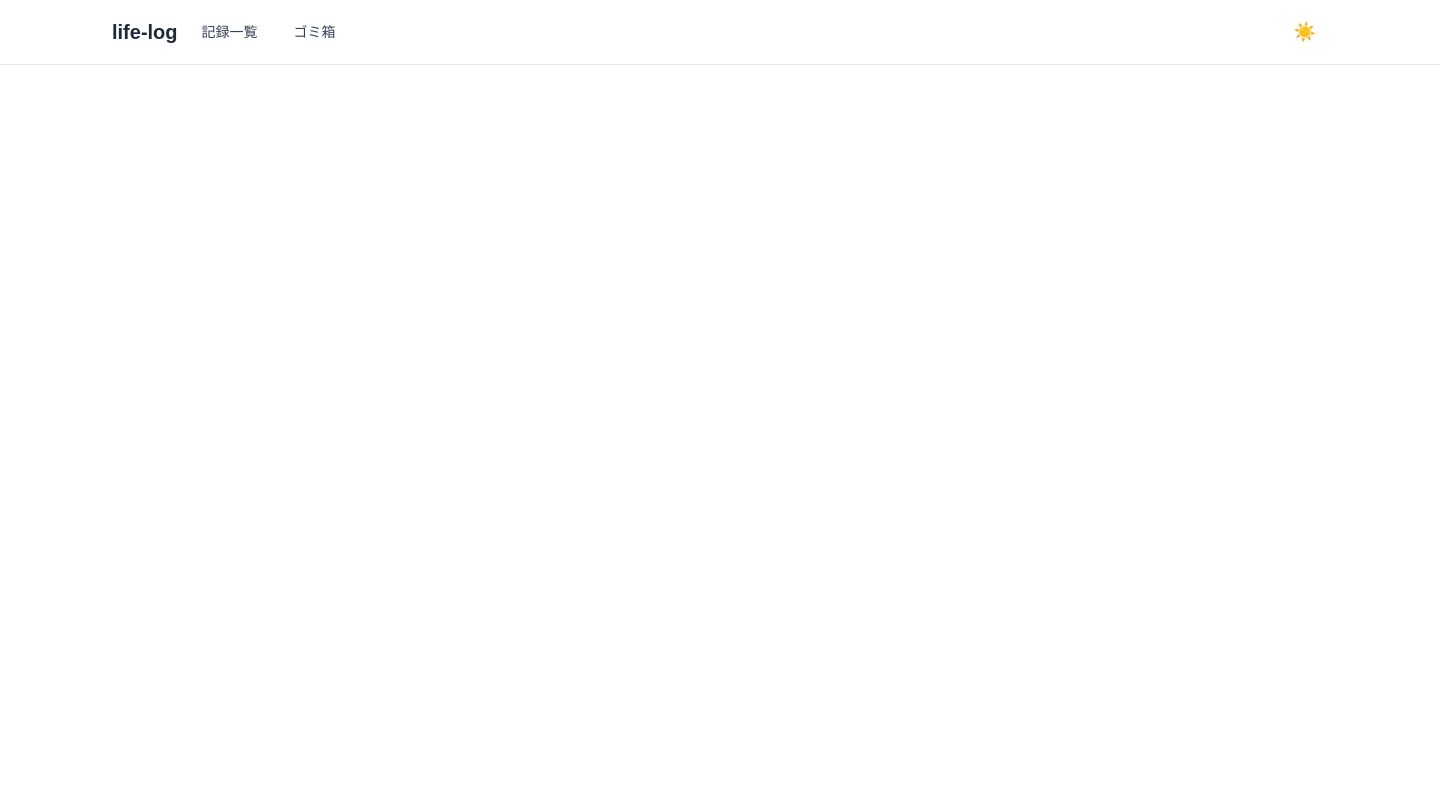
Test: Header › テーマ切り替え機能 › ライトモードからダークモードに切り替わる
Expected: the text "☀️" is shown, x1=1294 y1=18 x2=1316 y2=46
Note: ボタンをクリック
Click the button: (1305,32) x1=1282 y1=10 x2=1328 y2=54
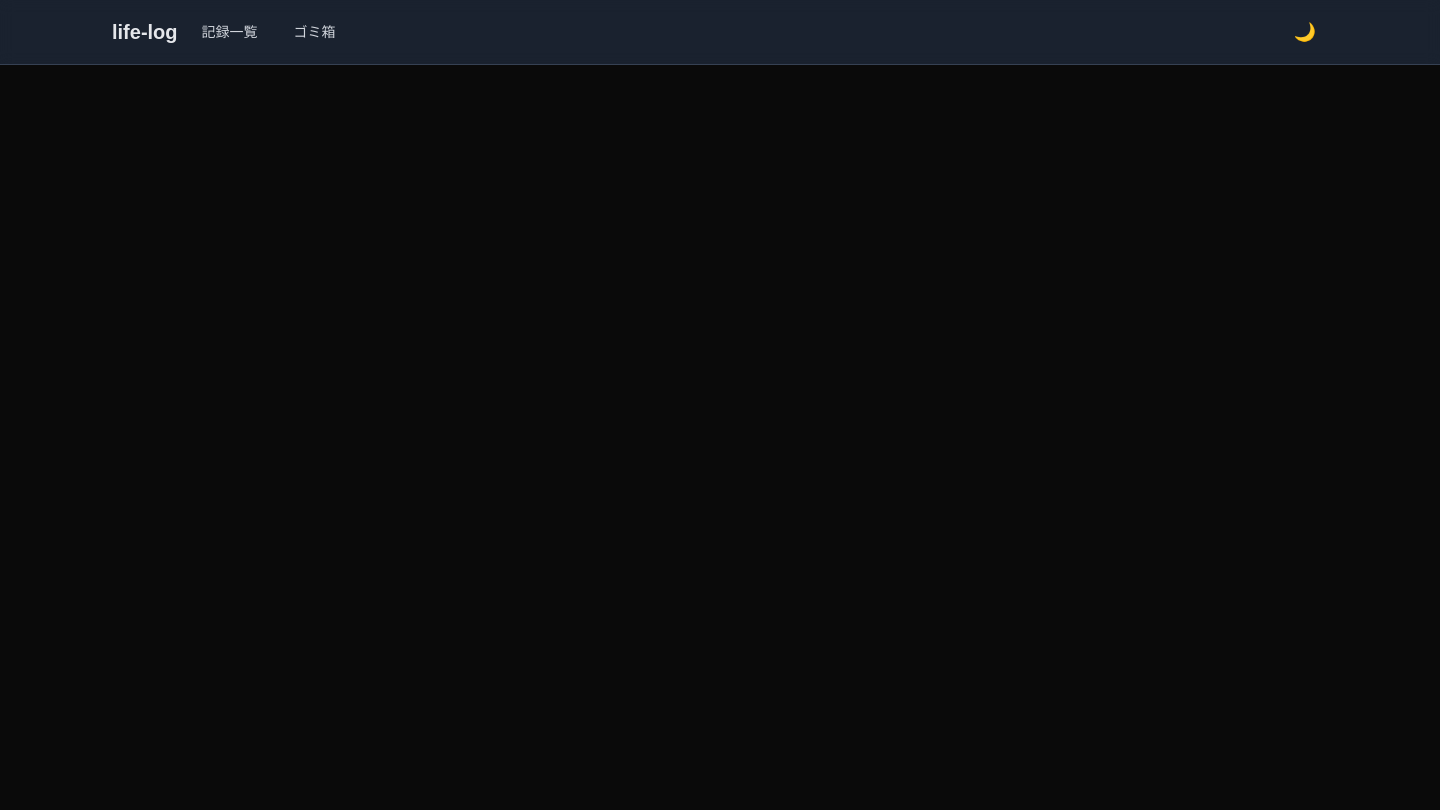
Expected: the text "🌙" is shown, x1=1294 y1=18 x2=1316 y2=46
